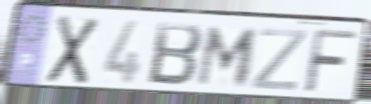4: (101, 19, 143, 87)
B: (145, 21, 205, 89)
F: (301, 27, 360, 96)
M: (193, 24, 261, 88)
X: (44, 13, 102, 87)
Z: (249, 26, 310, 93)
